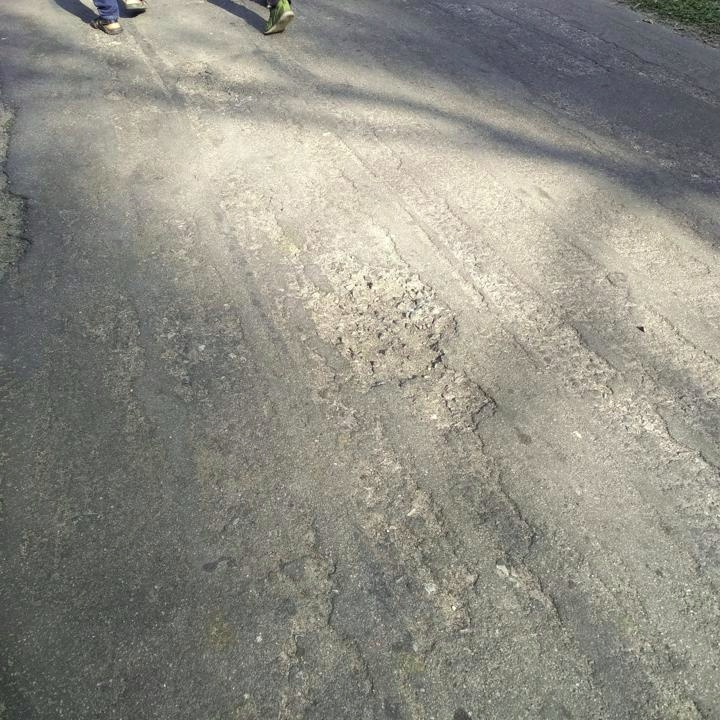pothole: (301, 269, 455, 383), (423, 373, 494, 429)
